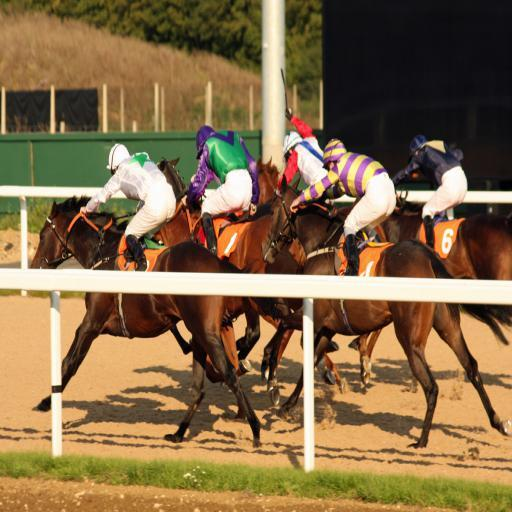horse: (28, 156, 511, 448)
